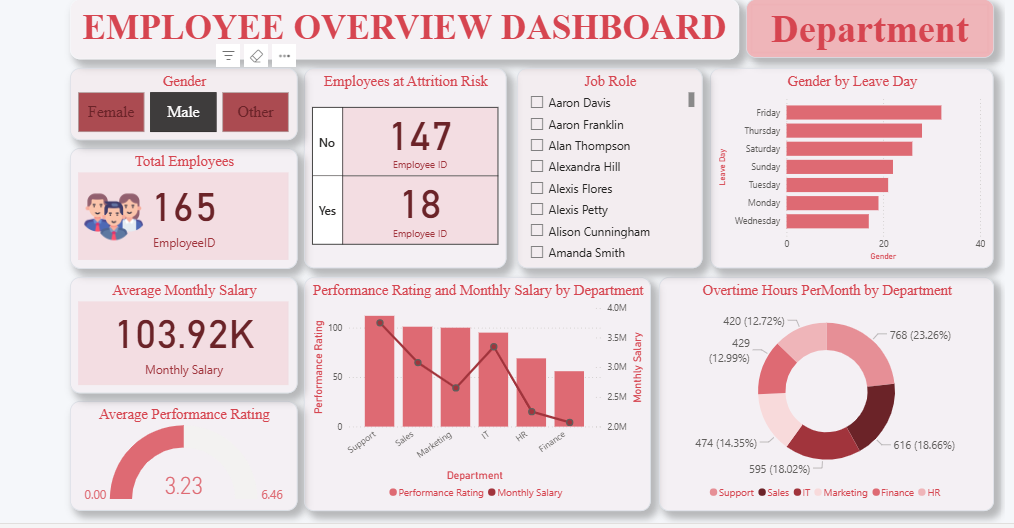

Layout of this report page (visuals, bound fields, positions):
{"tool":"powerbi","page":{"name":"Home","canvas":[1280,720],"ordinal":0},"visuals":[{"type":"textbox","box":[10.2,8.8,908.8,82],"z":0},{"type":"cardVisual","title":"Total Employees","fields":{"Data":["Count(employee_performance_pro.EmployeeID)"]},"box":[10.2,210.7,308.8,163.9],"z":1000},{"type":"gauge","title":"Average Performance Rating","fields":{"Y":["Avg(employee_performance_pro.PerformanceRating)"]},"box":[10.2,554.6,308.8,149.3],"z":2000},{"type":"cardVisual","title":"Average Monthly Salary","fields":{"Data":["Avg(employee_performance_pro.MonthlySalary)"]},"box":[10.2,385.3,308.8,158],"z":3000},{"type":"cardVisual","title":"Employees at Attrition Risk","fields":{"Data":["Count(employee_performance_pro.EmployeeID)"],"Rows":["employee_performance_pro.AttritionRisk"]},"box":[329.3,102.4,275.1,272.2],"z":4000},{"type":"actionButton","box":[929.3,8.8,336.6,80.5],"z":5000},{"type":"advancedSlicerVisual","fields":{"Values":["employee_performance_pro.Gender"]},"box":[10.2,102.4,308.8,98],"z":6000},{"type":"image","box":[23.4,257.6,93.7,92.2],"z":7000},{"type":"lineClusteredColumnComboChart","fields":{"Category":["employee_performance_pro.Department"],"Y2":["Sum(employee_performance_pro.MonthlySalary)"],"Y":["Sum(employee_performance_pro.PerformanceRating)"]},"box":[329.3,386.3,471.2,317.6],"z":8000},{"type":"donutChart","fields":{"Y":["Sum(employee_performance_pro.OvertimeHoursPerMonth)"],"Category":["employee_performance_pro.Department"]},"box":[810.7,386.3,455.1,317.6],"z":9000},{"type":"clusteredBarChart","fields":{"Category":["employee_performance_pro.LeaveDayName"],"Y":["CountNonNull(employee_performance_pro.Gender)"]},"box":[881,102.4,384.9,272.2],"z":10000},{"type":"slicer","title":"Job Role","fields":{"Values":["employee_performance_pro.Name"]},"box":[617.6,102.4,251.7,272.2],"z":11000}]}

Visuals, with their boxes on the page's 1280x720 design canvas (x1, y1, x2, y2). These are canvas units, not pixel positions in the 1014x528 screenshot, which may show the page scaled, cropped or inside an application window:
textbox: 10/9/919/91
"Total Employees" cardVisual: 10/211/319/375
"Average Performance Rating" gauge: 10/555/319/704
"Average Monthly Salary" cardVisual: 10/385/319/543
"Employees at Attrition Risk" cardVisual: 329/102/604/375
actionButton: 929/9/1266/89
advancedSlicerVisual - employee_performance_pro.Gender: 10/102/319/200
image: 23/258/117/350
lineClusteredColumnComboChart - employee_performance_pro.Department x Sum(employee_performance_pro.MonthlySalary): 329/386/800/704
donutChart - Sum(employee_performance_pro.OvertimeHoursPerMonth) x employee_performance_pro.Department: 811/386/1266/704
clusteredBarChart - employee_performance_pro.LeaveDayName x CountNonNull(employee_performance_pro.Gender): 881/102/1266/375
"Job Role" slicer: 618/102/869/375
